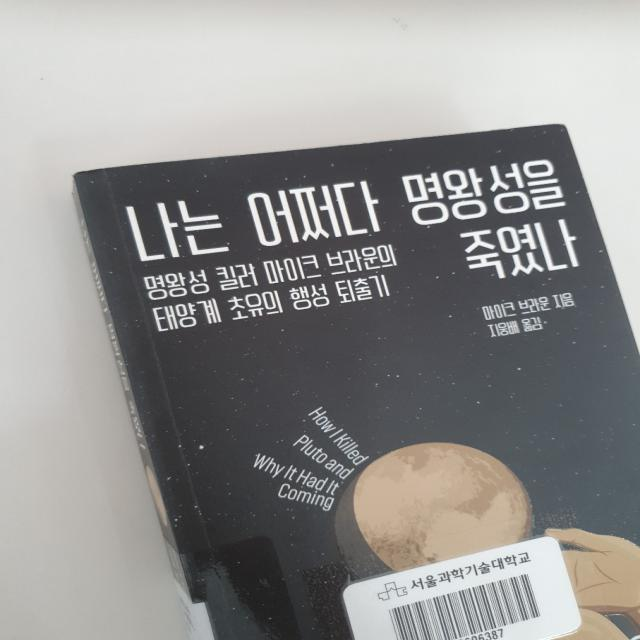Wornout: (66, 165, 92, 200), (545, 265, 564, 278)
